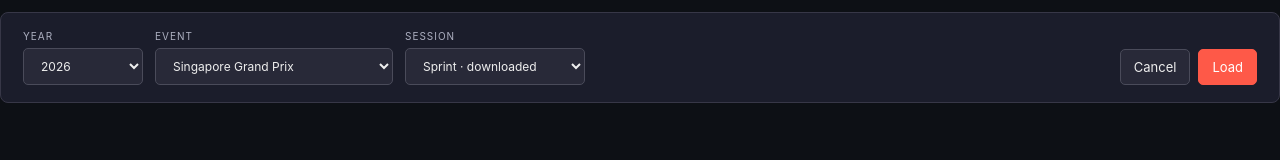
Test: preselects the replay, disables unarchived sessions and posts the chosen key
Expected: the dropdown labelled "Session" shows "Sprint · downloaded", [405,48,585,85]
Expected: the dropdown labelled "Year" shows "2026", [23,48,143,85]
Select "Pre-Season Testing · 2026-02-18" in the dropdown labelled "Event" at (274, 66), box [155,48,393,85]
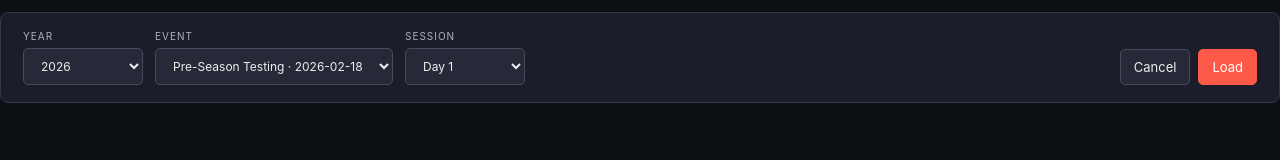
Expected: the dropdown labelled "Session" shows "Day 1", [405,48,525,85]
Click the button "Load" at (1228, 67), box [1198,49,1257,85]
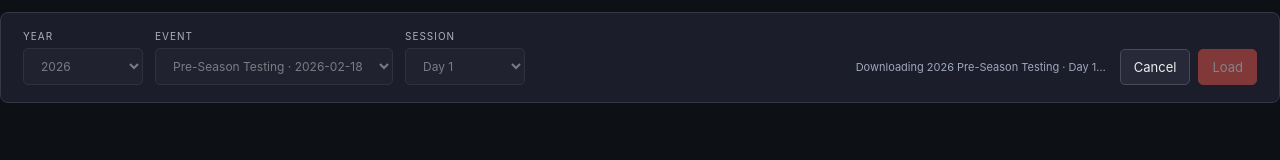
Expected: the text "Downloading 2026 Pre-Season Testing · Day 1…" is shown, [856,60,1106,74]
Expected: the button "Load" is disabled, [1198,49,1257,85]
